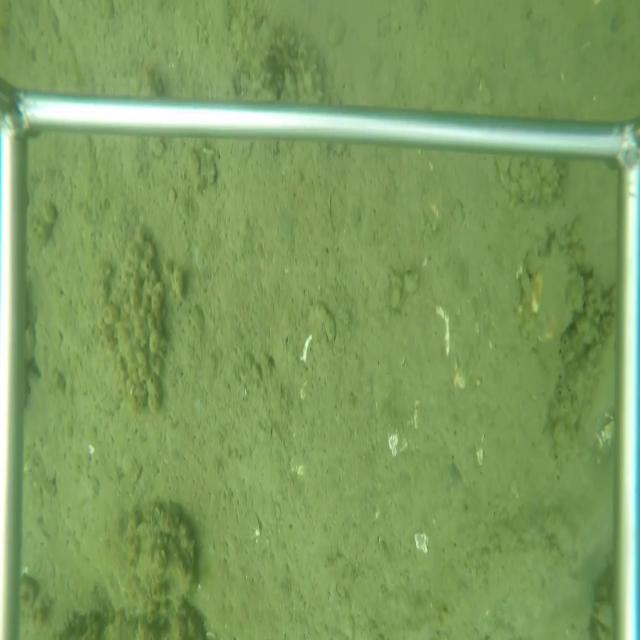Oyster-Indeterminate: (520, 242, 589, 352)
